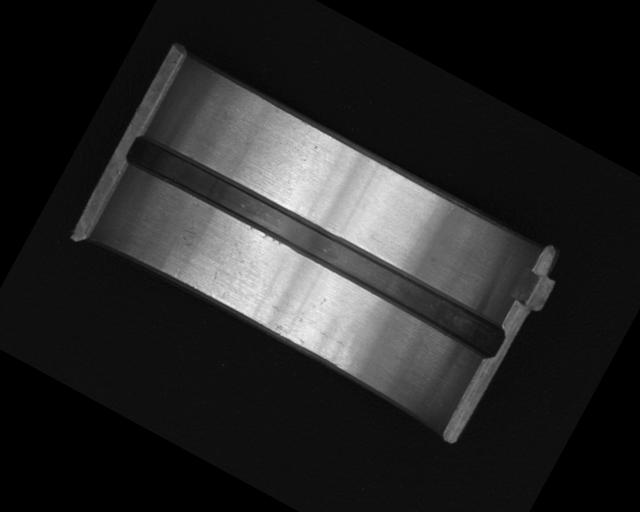gap: (119, 127, 512, 366)
